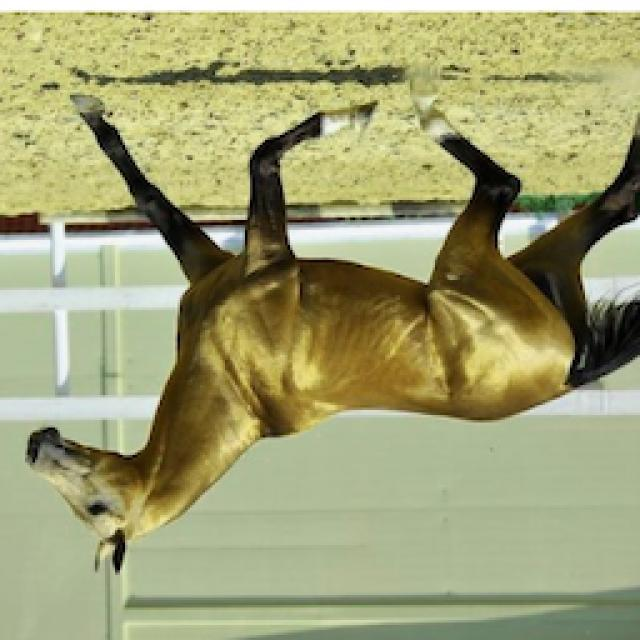Horse: (18, 60, 638, 580)
